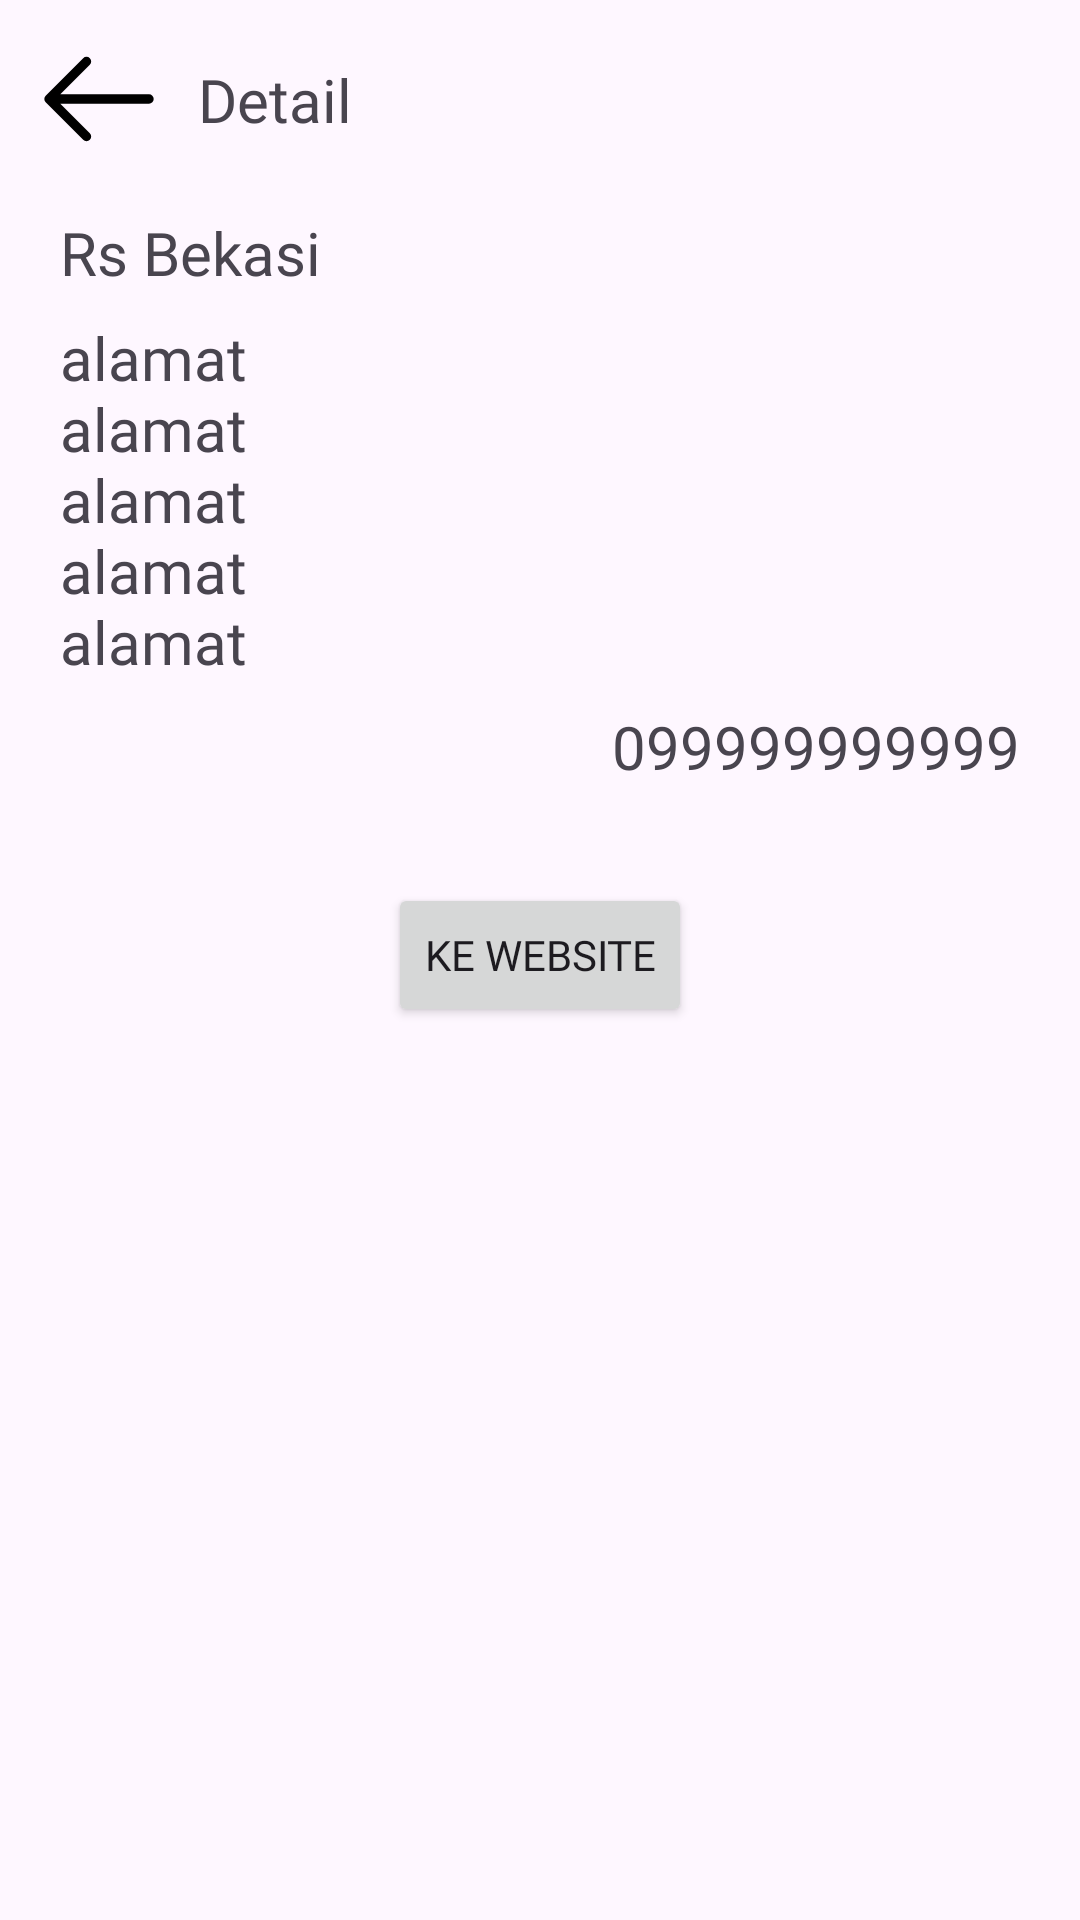

Named icons in this screenshot (1080w x 1920h) and their centers, [x,y]:
back: [99,99]
